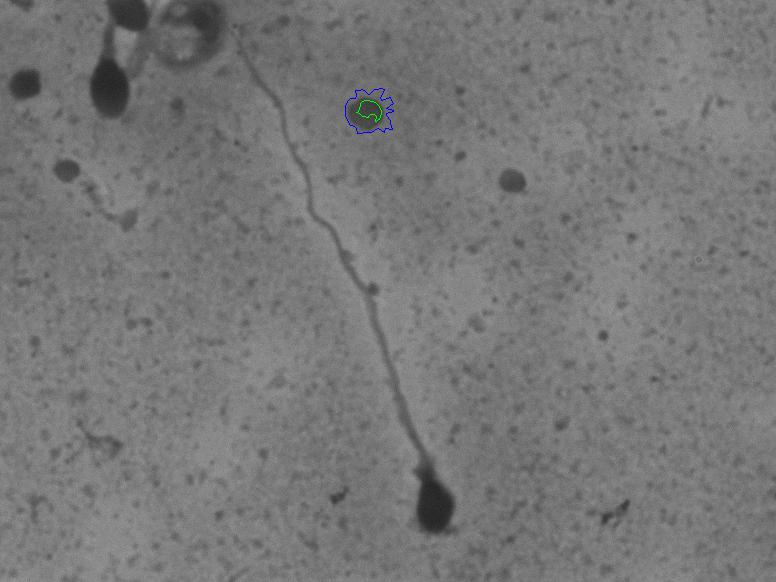Abnormal: (225, 49, 490, 543)
